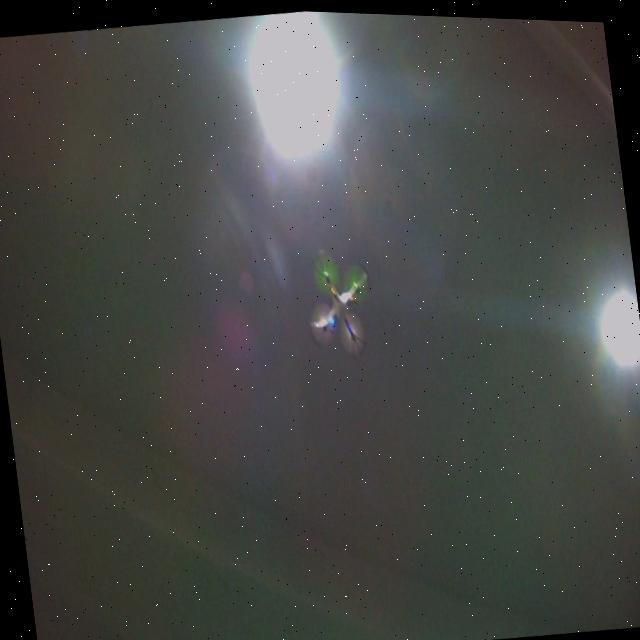drone: (297, 238, 381, 365)
